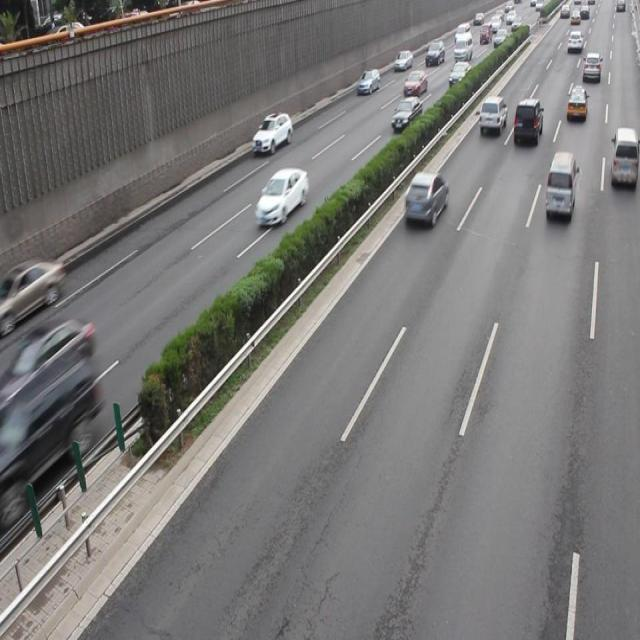car: (10, 357, 103, 498), (11, 313, 94, 400), (1, 256, 63, 324), (254, 165, 308, 226), (403, 171, 448, 226), (252, 110, 293, 154), (512, 99, 542, 144), (477, 95, 506, 135), (389, 97, 422, 132), (565, 86, 586, 120)
truck: (543, 150, 575, 219), (610, 128, 640, 187)
